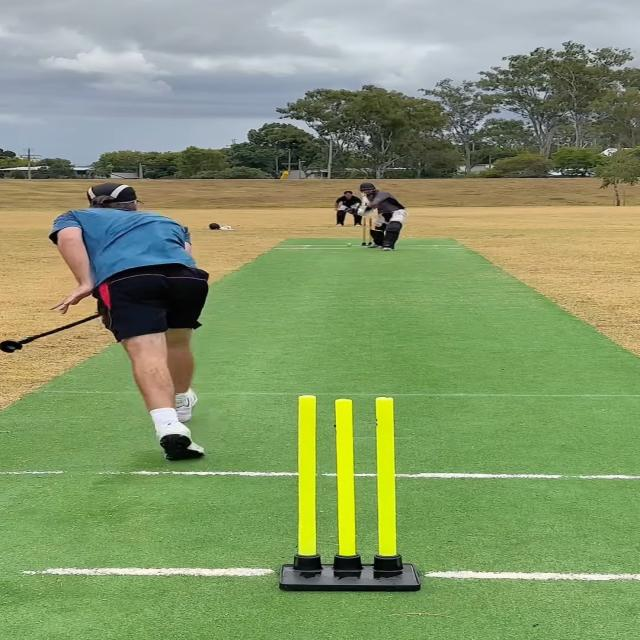ball: (345, 241, 355, 248)
stump: (278, 393, 422, 593), (362, 215, 378, 246)
